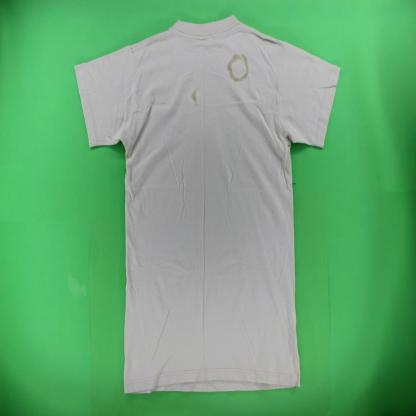stain: (226, 51, 250, 85), (190, 86, 201, 109)
